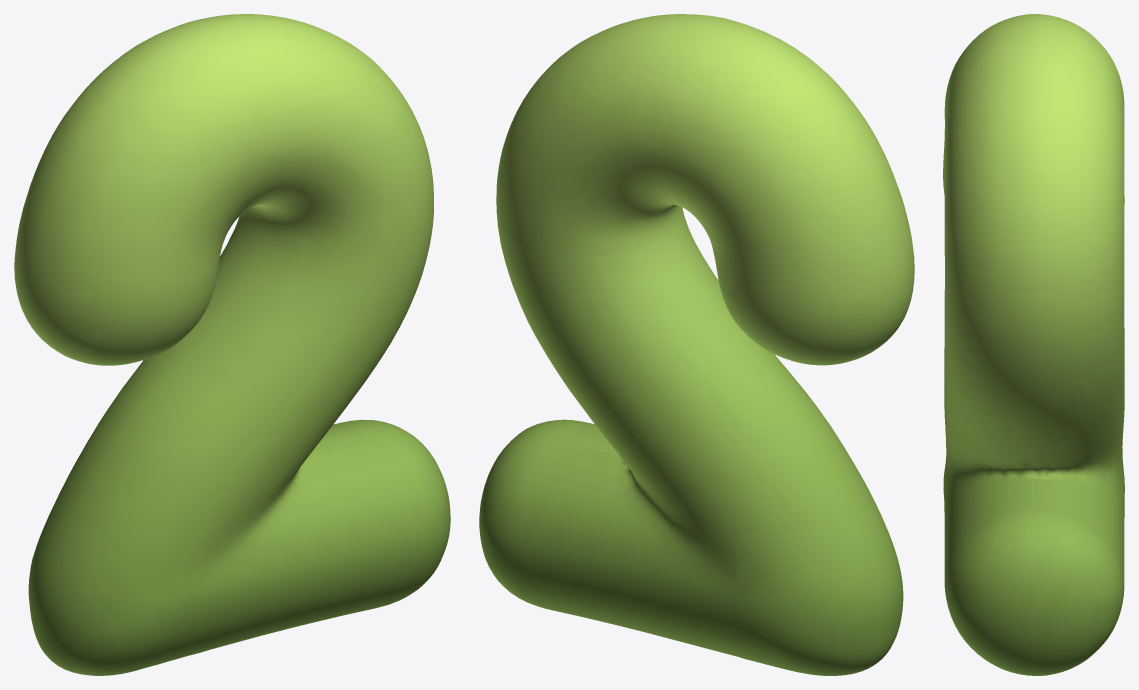
3 views of the same model, side by side, from view 1: azimuth 30°, elevation 25°; view 2: azimuth 150°, elevation 25°; view 3: azimuth 270°, elevation 25° (orthographic). The views are drawn at different scales.
Visible parts, largest first — view 1: 2; view 2: 2; view 3: 2.
Part boxes in pixels (<box>): 2: <box>14,14,450,675</box>; 2: <box>479,14,914,675</box>; 2: <box>943,14,1124,675</box>.
Bounding box in the file's own units: 4.6 × 6.61 × 1.9.
Materials: 1 (1 with a texture image).
